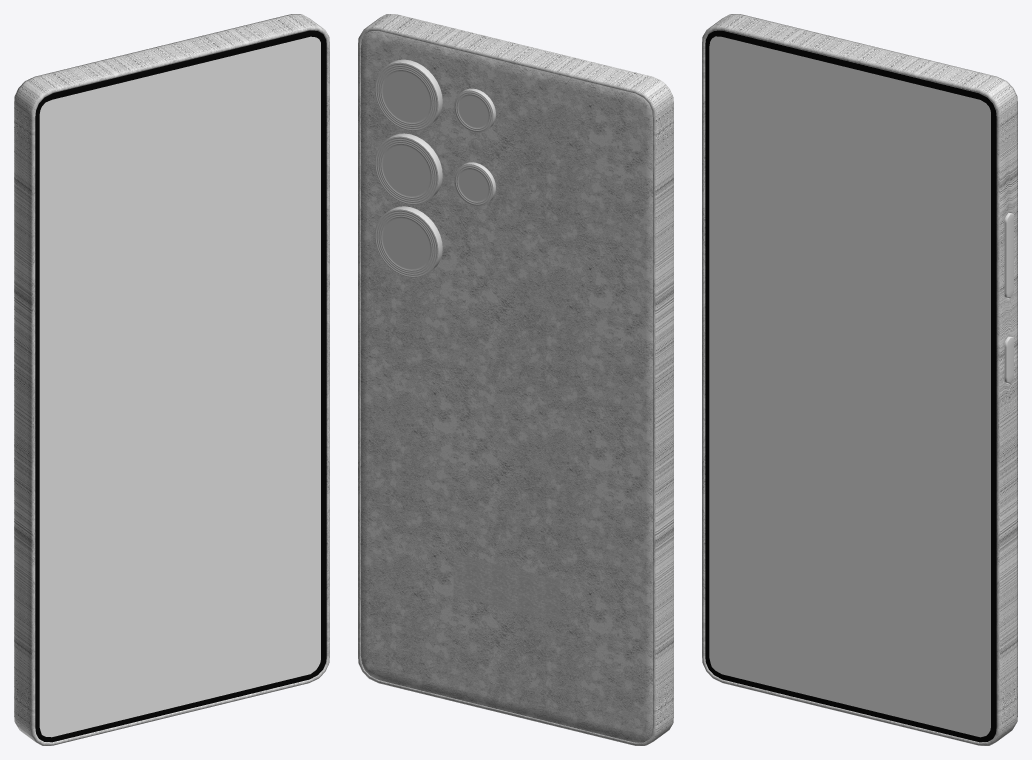
Rendered from phntest.glb.
3 renders of one model, left to right at view 1: azimuth 30°, elevation 25°; view 2: azimuth 150°, elevation 25°; view 3: azimuth 330°, elevation 25°, orthographic.
Visible parts, largest first — view 1: Touch Glass; view 2: Touch Glass; view 3: Touch Glass.
Part boxes in pixels (x1,y1,x2,y2): Touch Glass: (14,14,329,745); Touch Glass: (358,14,673,745); Touch Glass: (702,14,1017,745).
Bounding box in the file's own units: 0.078 × 0.1629 × 0.011.
Materials: 4 (2 with a texture image).
